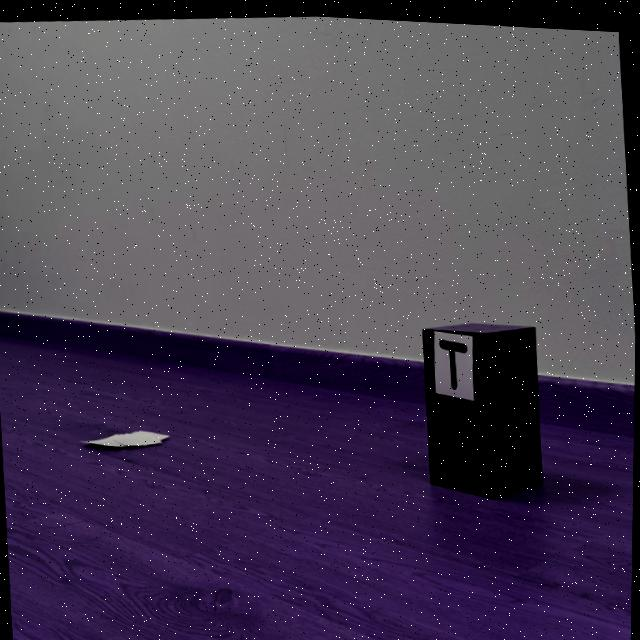T: (440, 334, 468, 384)
